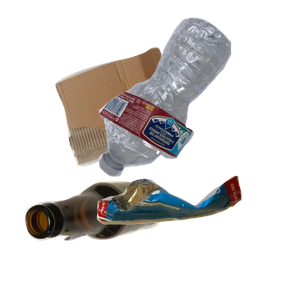cardboard: (53, 45, 221, 204)
glass: (23, 179, 183, 300)
plastic: (96, 15, 300, 184)
trash: (94, 173, 300, 300)
